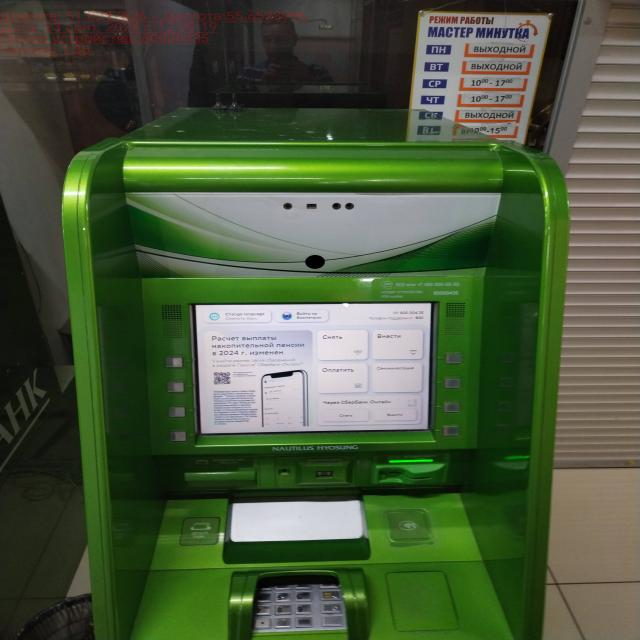bank: (62, 107, 570, 640)
